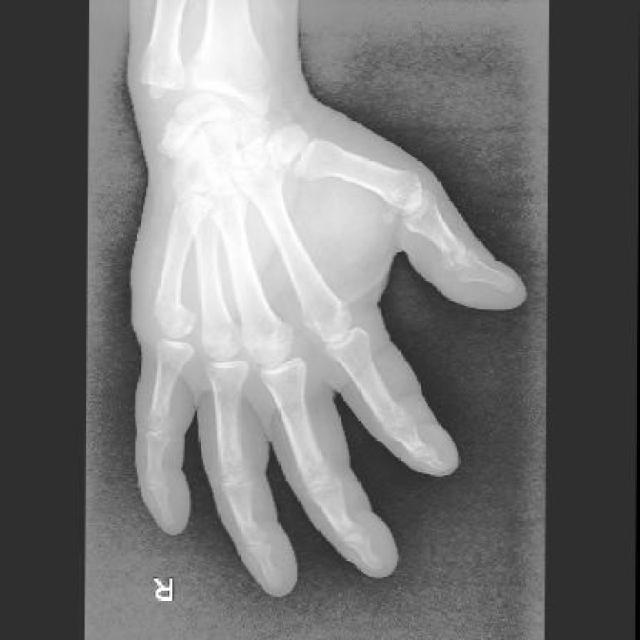Fracture: (151, 294, 188, 327)
